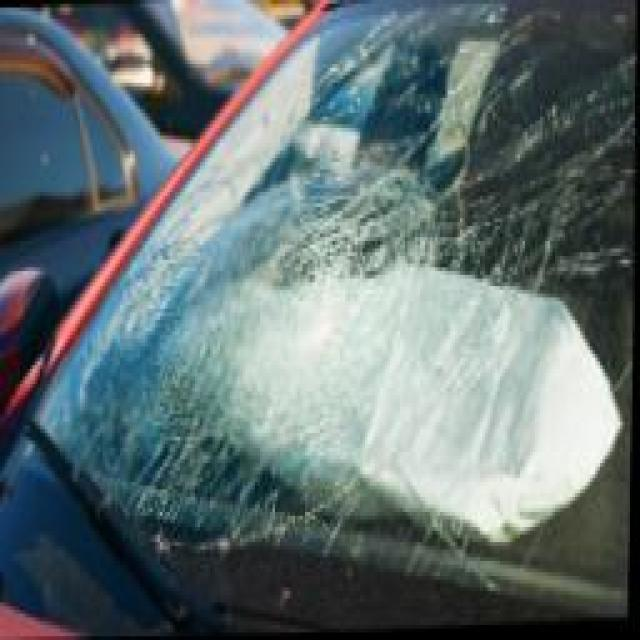Windshield: (68, 11, 639, 616)
